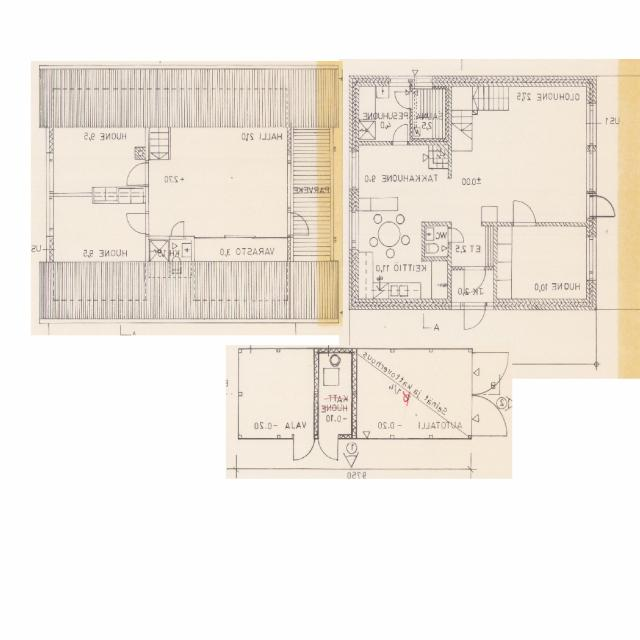door: (472, 394, 509, 436), (472, 352, 509, 394), (464, 302, 486, 334), (464, 266, 486, 294), (514, 198, 535, 227), (588, 196, 616, 217), (288, 212, 313, 235), (318, 434, 338, 462), (126, 162, 149, 185), (294, 438, 313, 461), (128, 214, 149, 234), (236, 218, 253, 238), (394, 92, 412, 108), (393, 126, 407, 146), (171, 222, 184, 240), (448, 228, 464, 242)
